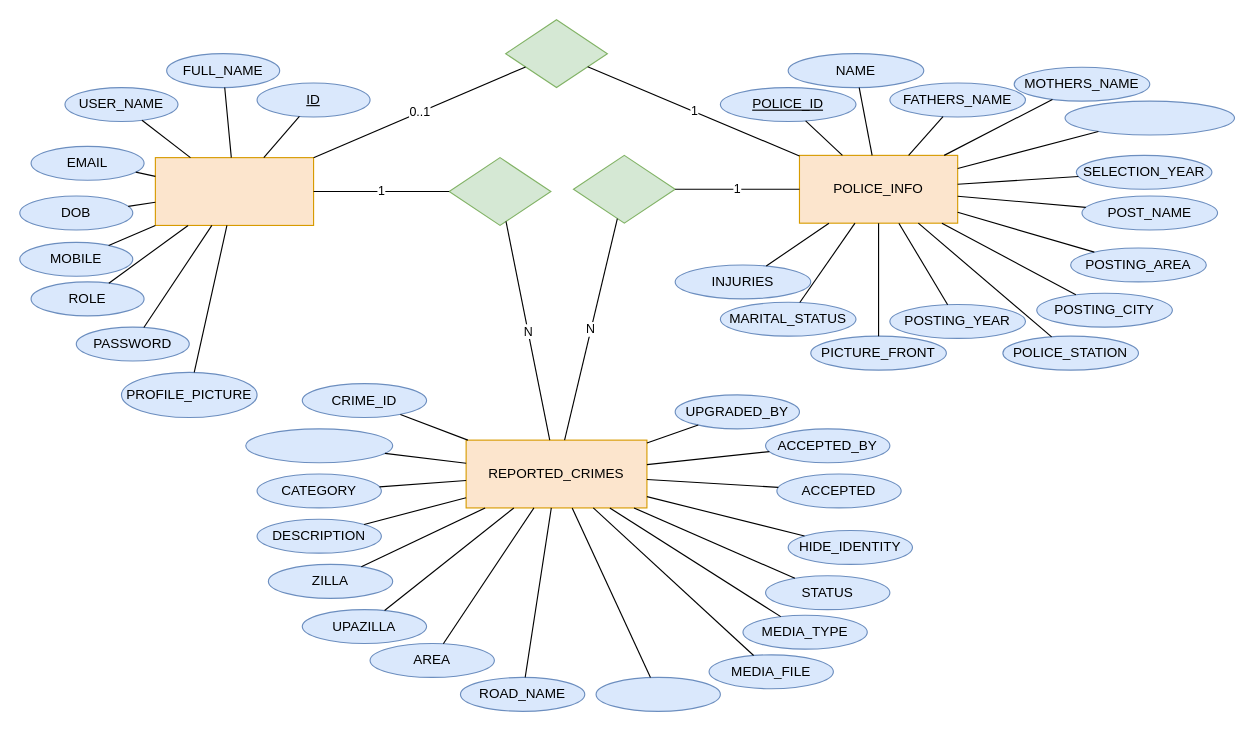
Some shapes in this 1254 by 740 pixel diagram are drawn without their labels. The centre of each missing label's shape, as x and y in pixels:
"DATE_OF_INCIDENT" belongs at [319,445].
"Has Account" belongs at [556,53].
"Investigates" belongs at [623,188].
"PERMANENT_ADDRESS" belongs at [1149,117].
"REGISTERED_USERS" belongs at [234,191].
"Reports" belongs at [499,191].
"ROAD_NO" belongs at [657,693].
